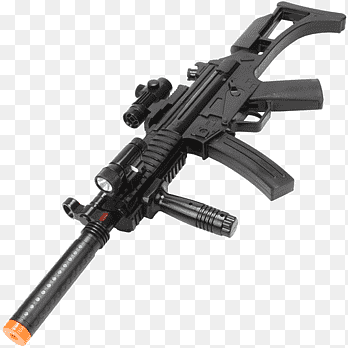Arma Falsa: (3, 1, 345, 348)
